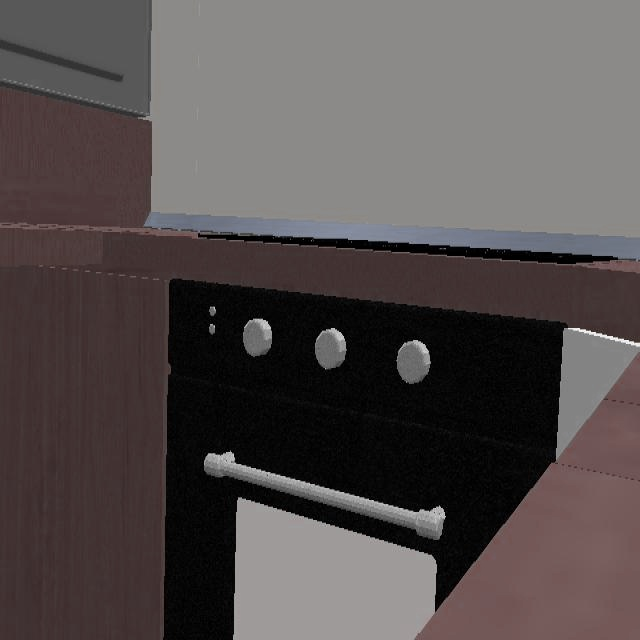countertop: (0, 225, 640, 343), (459, 445, 640, 588)
oven: (146, 279, 573, 640)
stove: (146, 213, 609, 264)
